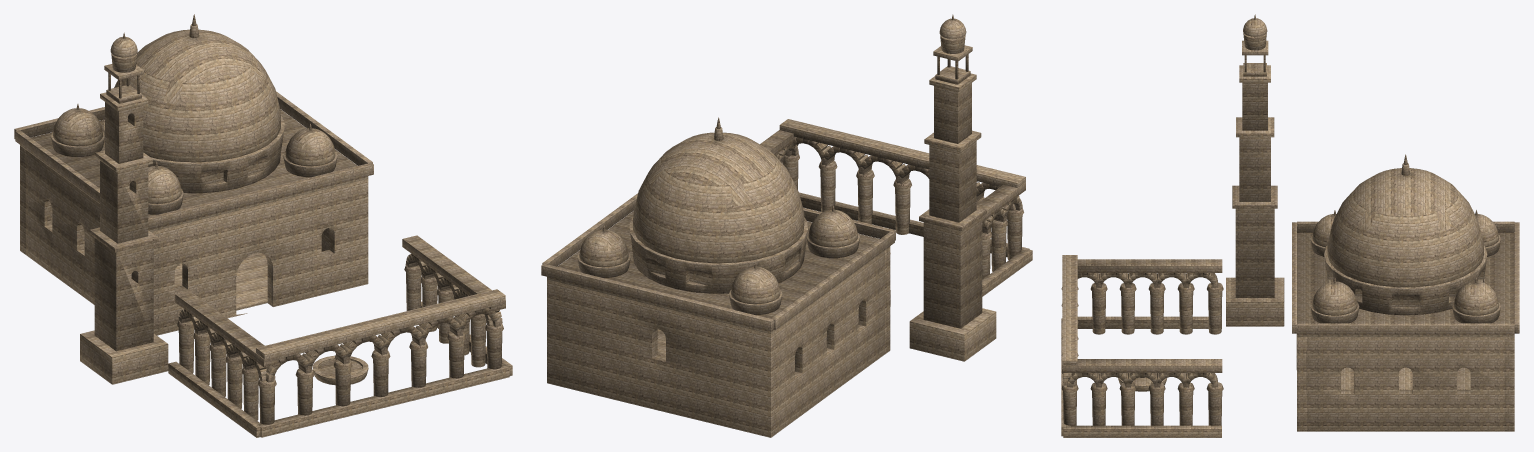
The model's file is m_mosque.glb.
3 views of the same model, side by side, from view 1: azimuth 30°, elevation 25°; view 2: azimuth 150°, elevation 25°; view 3: azimuth 270°, elevation 25° (orthographic). The views are drawn at different scales.
Visible parts, largest first — view 1: mosque; view 2: mosque; view 3: mosque.
Part boxes in pixels (x1,y1,x2,y2): mosque: (14, 14, 512, 437); mosque: (541, 14, 1032, 437); mosque: (1061, 14, 1519, 437).
Bounding box in the file's own units: 35.45 × 36.55 × 50.5.
Materials: 1 (1 with a texture image).
